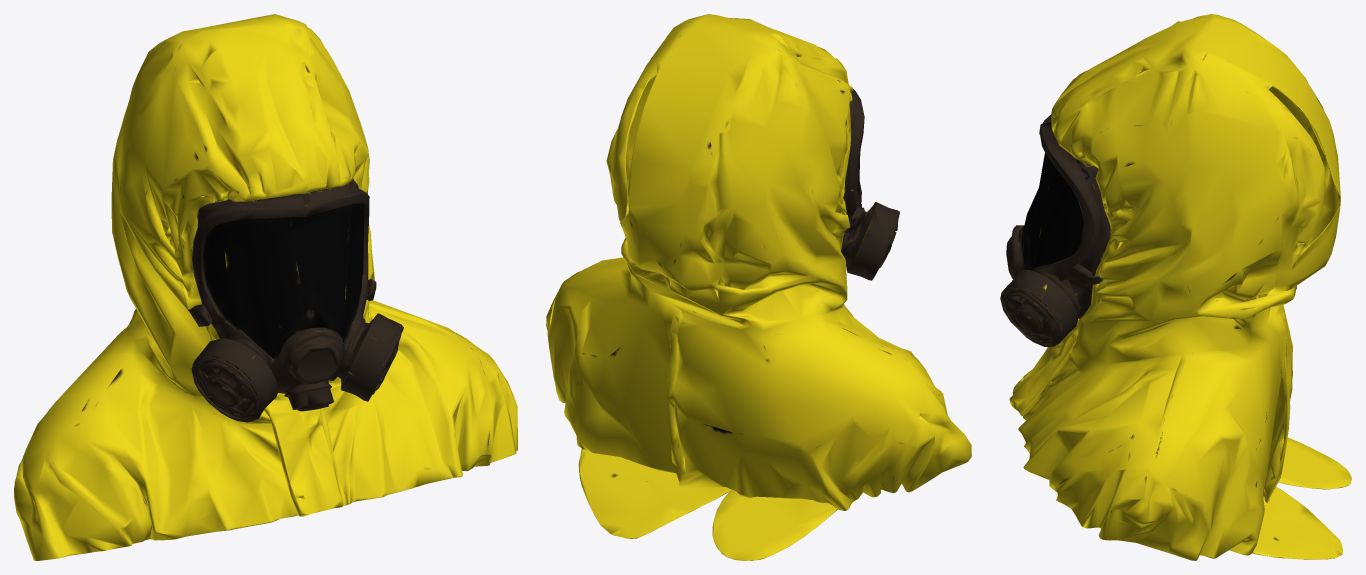
The model's file is hazmat_hood.glb.
3 renders of one model, left to right at view 1: azimuth 30°, elevation 25°; view 2: azimuth 150°, elevation 25°; view 3: azimuth 270°, elevation 25°, orthographic. The views are drawn at different scales.
Size of the model in its own units: 0.8082 by 0.871 by 0.5607.
1 material, 1 textured.
